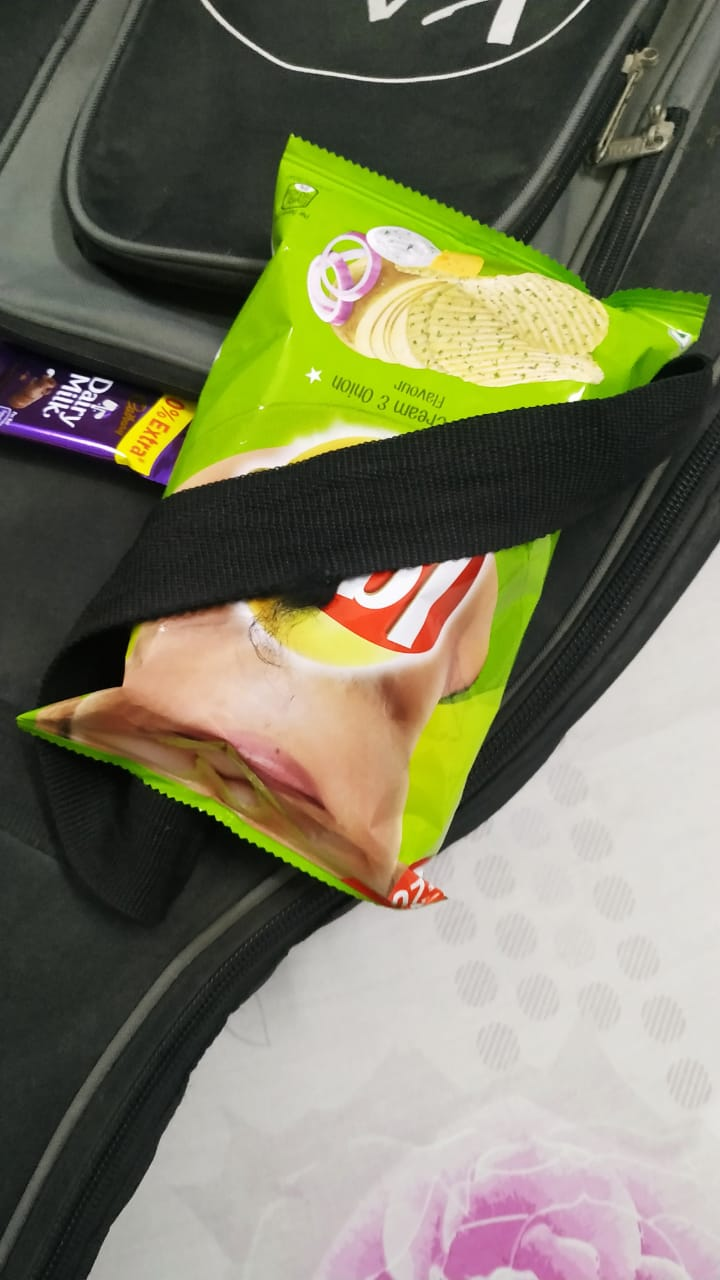dairy milk: (1, 340, 207, 508)
lays chips: (31, 133, 705, 929)
